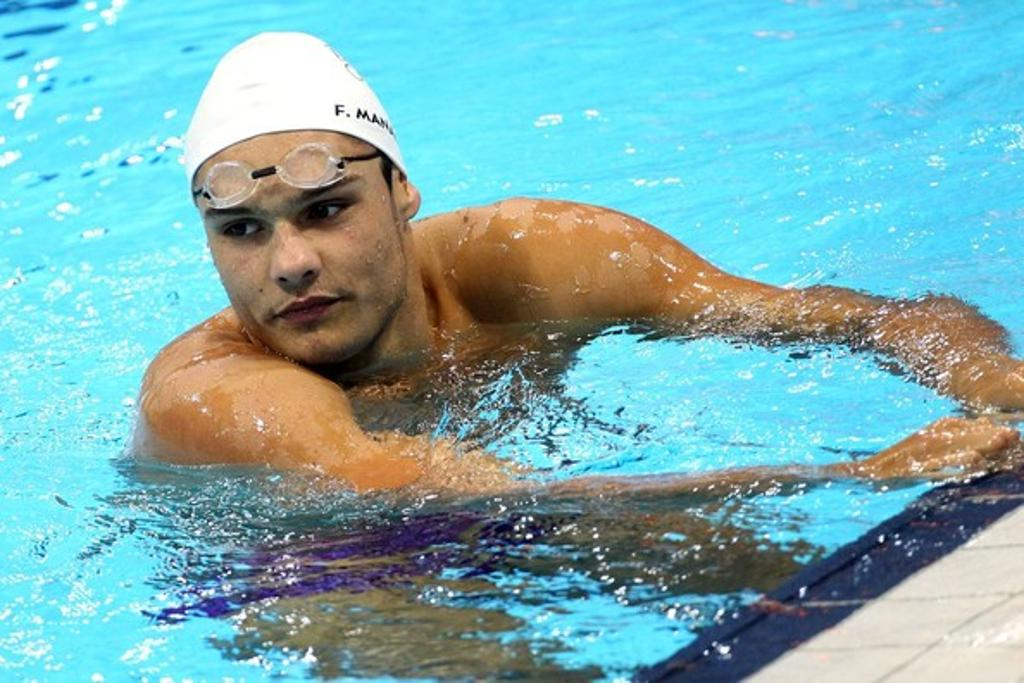face: (210, 140, 404, 362)
